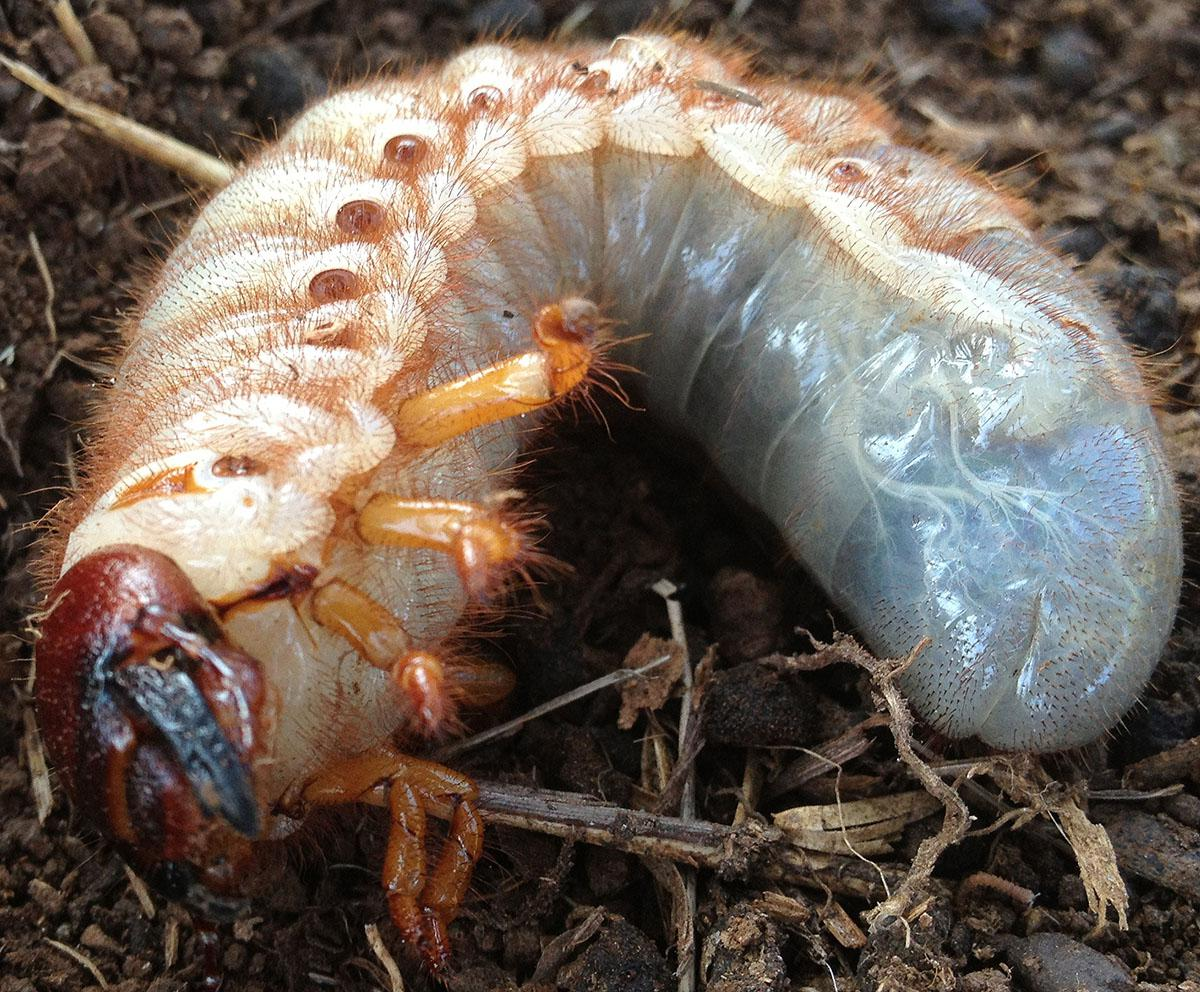grub: (51, 27, 1195, 896)
